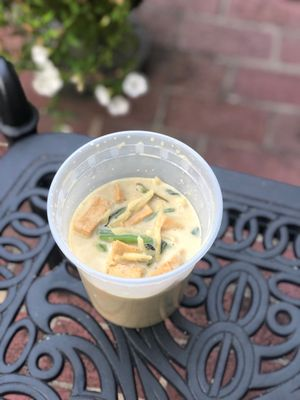pizza: (43, 133, 224, 330)
sushi: (45, 131, 224, 331)
